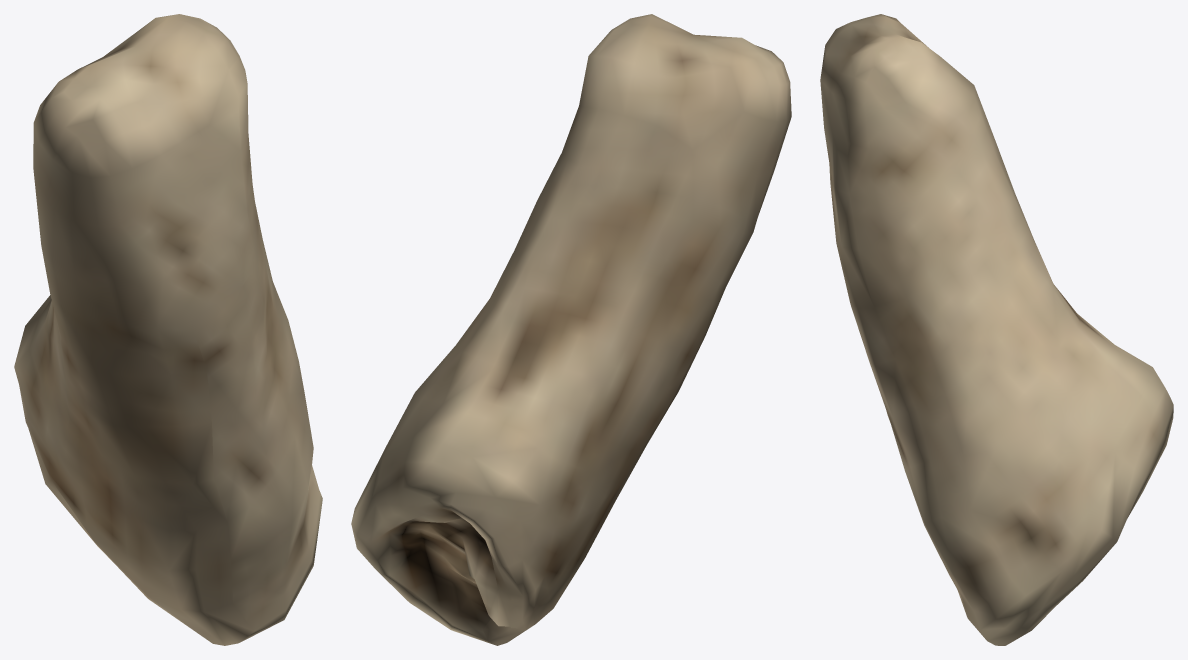
Rendered from Upper_Incisor1.glb.
3 renders of one model, left to right at view 1: azimuth 30°, elevation 25°; view 2: azimuth 150°, elevation 25°; view 3: azimuth 270°, elevation 25°, orthographic. The views are drawn at different scales.
Parts seen in each view (by area): view 1: Upper_Incisor1.glb; view 2: Upper_Incisor1.glb; view 3: Upper_Incisor1.glb.
Boxes of the visible parts, x1,y1,x2,y2 form: Upper_Incisor1.glb: (14, 14, 322, 645); Upper_Incisor1.glb: (351, 14, 791, 645); Upper_Incisor1.glb: (820, 14, 1173, 645).
Bounding box in the file's own units: 0.0183 × 0.0326 × 0.019.
1 material, 1 textured.
